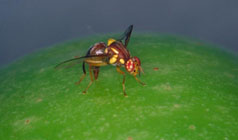Fruit fly: (68, 26, 149, 85)
